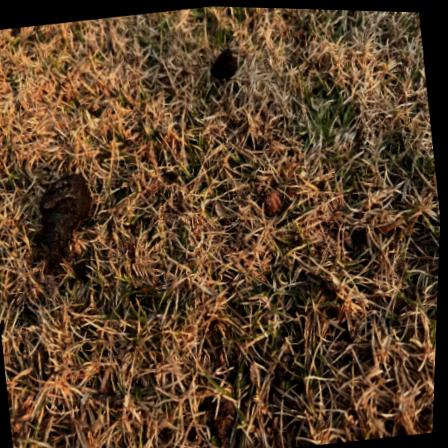dog-poop: (18, 162, 110, 274)
